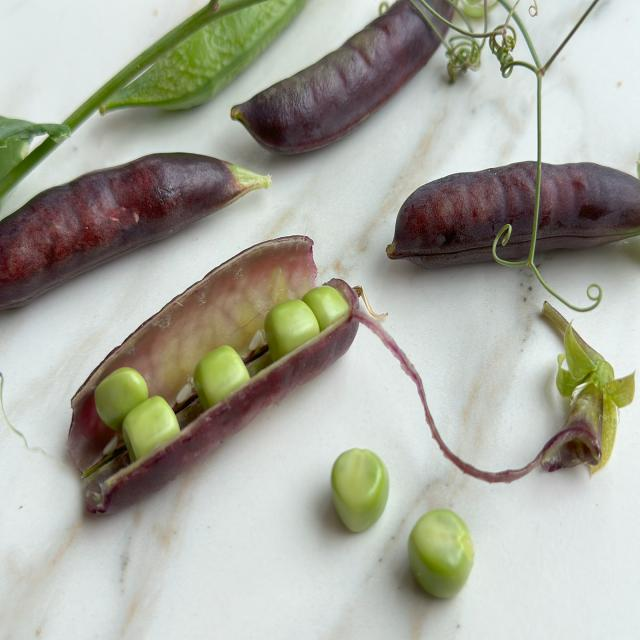arvejas: (405, 506, 480, 604), (324, 441, 395, 542)
